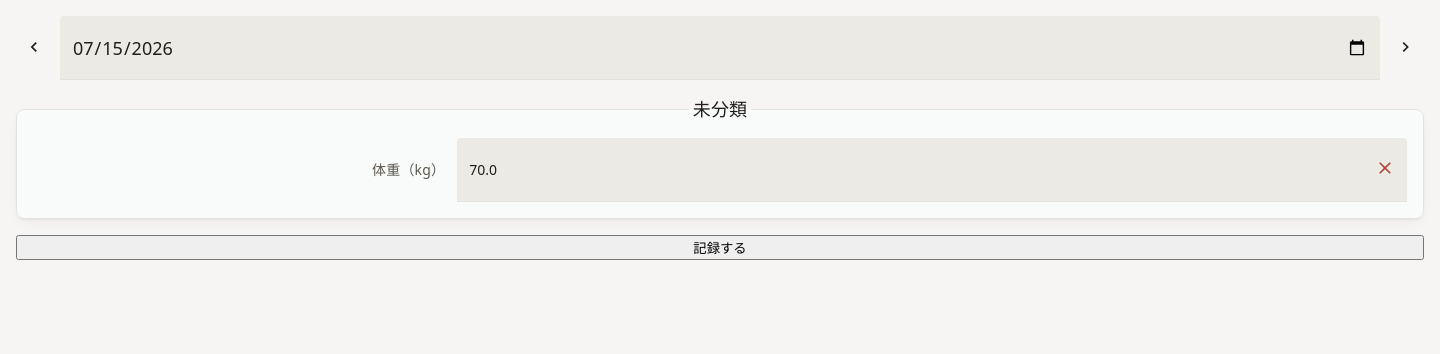
Scenario: EntryFormScreen › deletes the existing entry when its field is cleared and the form is submitted
expect the number field named "体重" holds "70": met, box [457, 138, 1367, 201]
What coordinates should you click on to do the following:
click the button named "体重 の入力を消す"
I would click on:
 (1385, 170)
Its box is [1367, 152, 1403, 188].
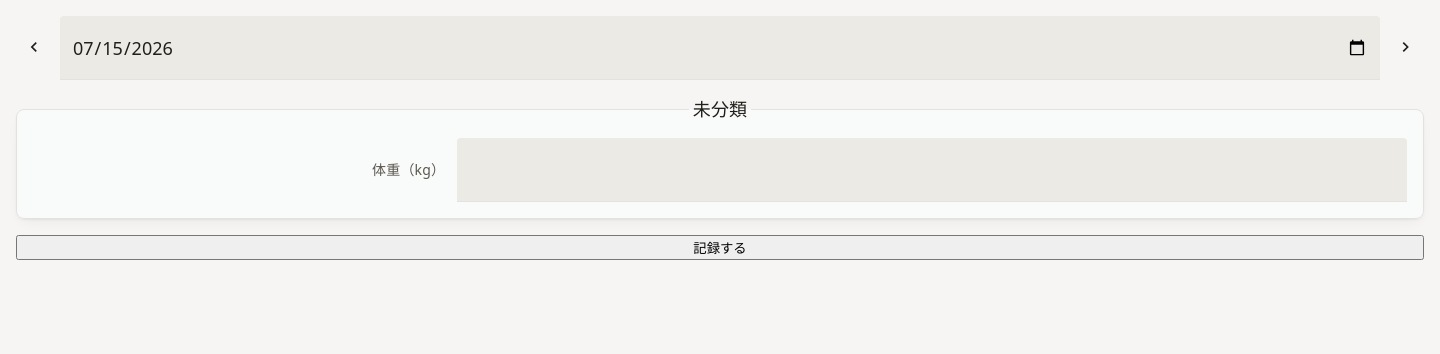
What coordinates should you click on to do the following:
click the button "記録する"
I would click on:
 (720, 248)
Its box is [16, 235, 1424, 260].
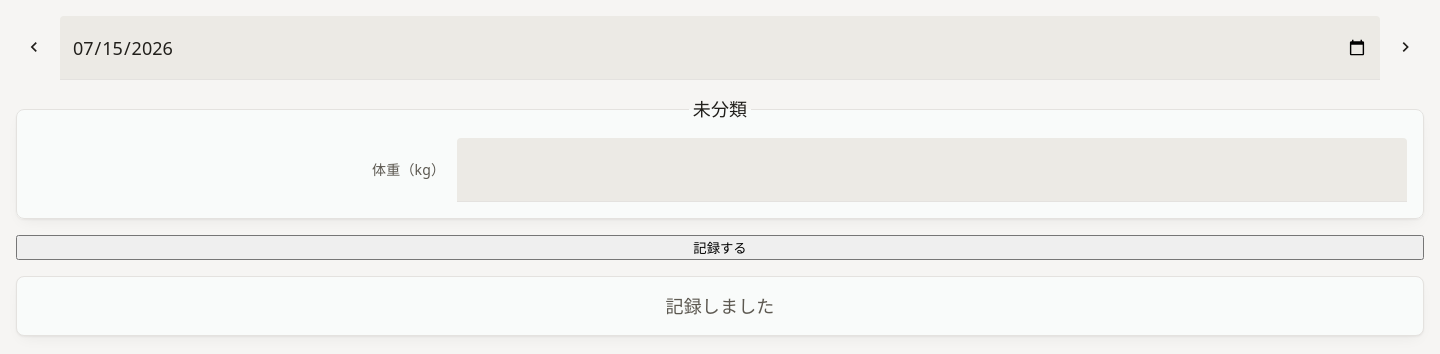
expect the text "記録しました" is shown: met, box [16, 276, 1424, 336]
